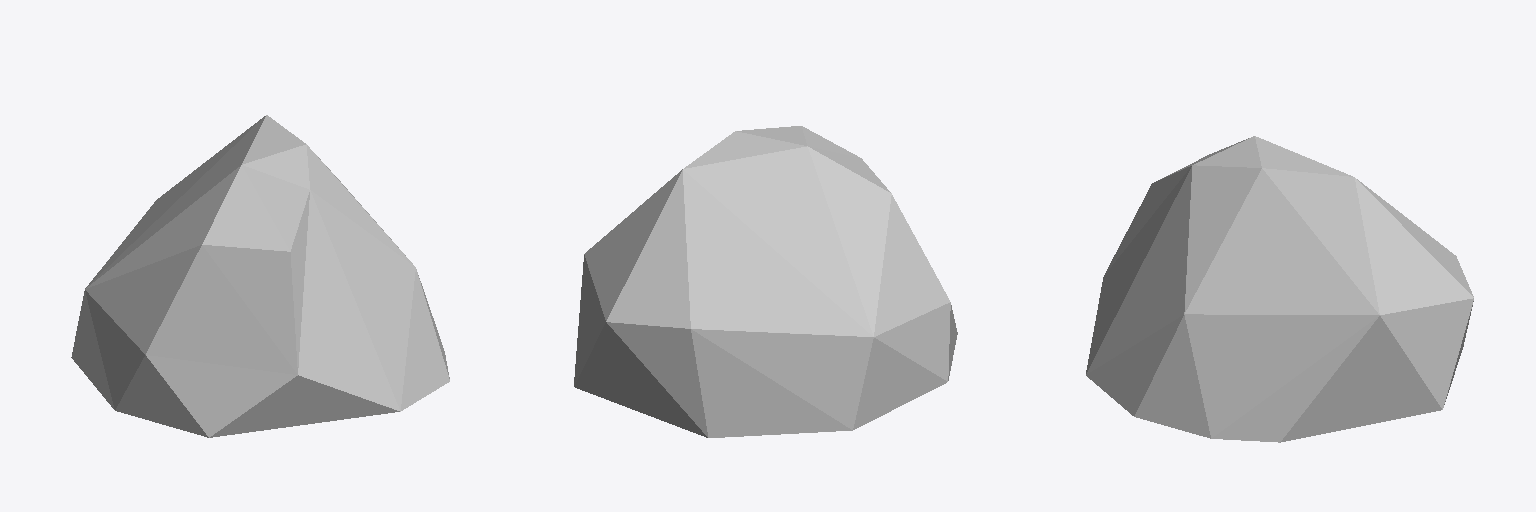
Rendered from stone22.obj.
3 views of the same model, side by side, from view 1: azimuth 30°, elevation 25°; view 2: azimuth 150°, elevation 25°; view 3: azimuth 270°, elevation 25° (orthographic).
Parts seen in each view (by area): view 1: stone2_Group1.001; view 2: stone2_Group1.001; view 3: stone2_Group1.001.
Boxes of the visible parts, <box> form: stone2_Group1.001: <box>71,115,449,437</box>; stone2_Group1.001: <box>574,126,957,437</box>; stone2_Group1.001: <box>1086,136,1473,442</box>.
Size of the model in its own units: 3.09 by 1.99 by 3.24.